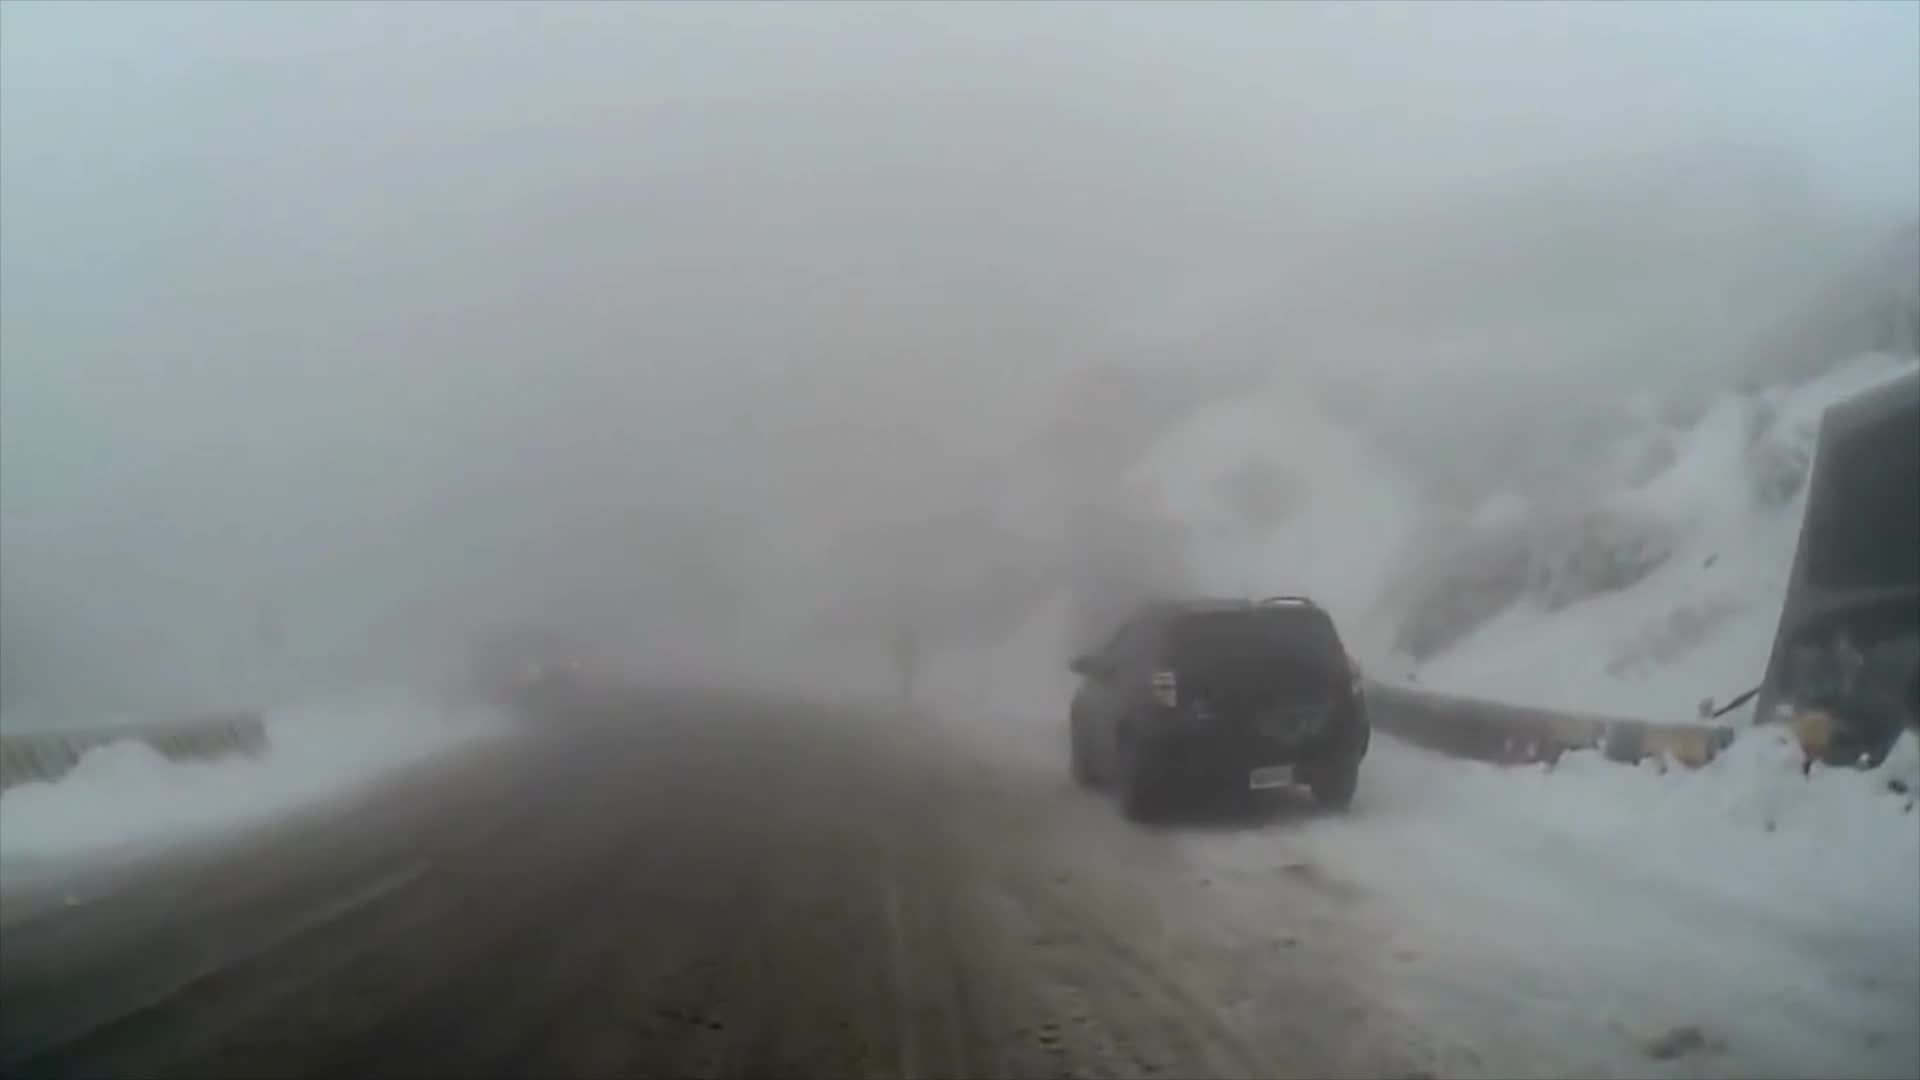vehicle: (1067, 592, 1371, 829)
